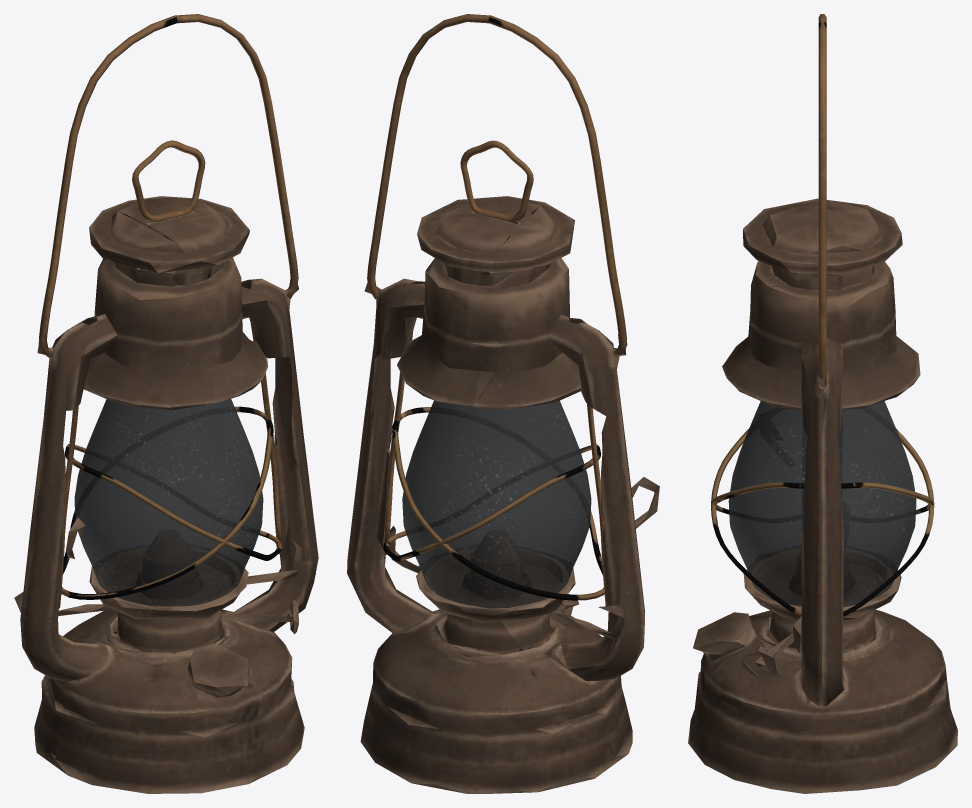
Rendered from hurricane-lantern_final.glb.
3 views of the same model, side by side, from view 1: azimuth 30°, elevation 25°; view 2: azimuth 150°, elevation 25°; view 3: azimuth 270°, elevation 25° (orthographic).
Visible parts, largest first — view 1: SM_HurricaneLantern_Body, SM_HurricaneLantern_Globe, SM_HurricaneLantern_Wire; view 2: SM_HurricaneLantern_Body, SM_HurricaneLantern_Globe, SM_HurricaneLantern_Wire; view 3: SM_HurricaneLantern_Body, SM_HurricaneLantern_Globe, SM_HurricaneLantern_Wire.
Part boxes in pixels (x1,y1,x2,y2): SM_HurricaneLantern_Body: (14,196,318,793); SM_HurricaneLantern_Globe: (74,399,263,606); SM_HurricaneLantern_Wire: (38,14,298,608); SM_HurricaneLantern_Body: (347,196,659,793); SM_HurricaneLantern_Globe: (402,400,591,608); SM_HurricaneLantern_Wire: (367,14,627,606); SM_HurricaneLantern_Body: (688,198,957,793); SM_HurricaneLantern_Globe: (728,401,916,606); SM_HurricaneLantern_Wire: (711,14,934,616).
Bounding box in the file's own units: 0.1274 × 0.2943 × 0.1006.
Materials: 3 (3 with a texture image).
